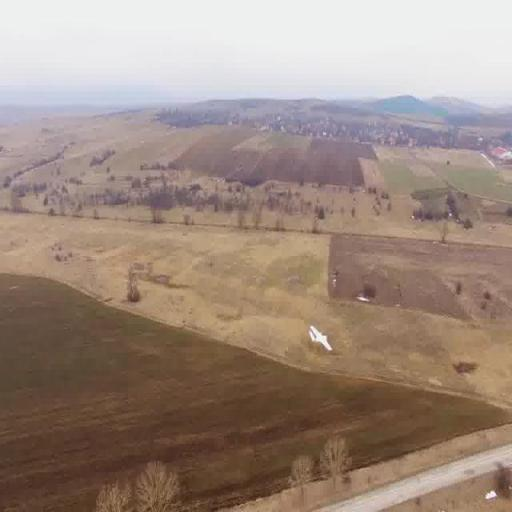uav: (304, 322, 336, 361)
